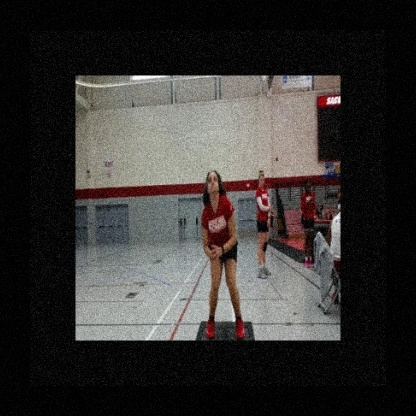lateral_flexion_right: (200, 167, 246, 340)
stance_width_broad: (201, 193, 246, 340)
